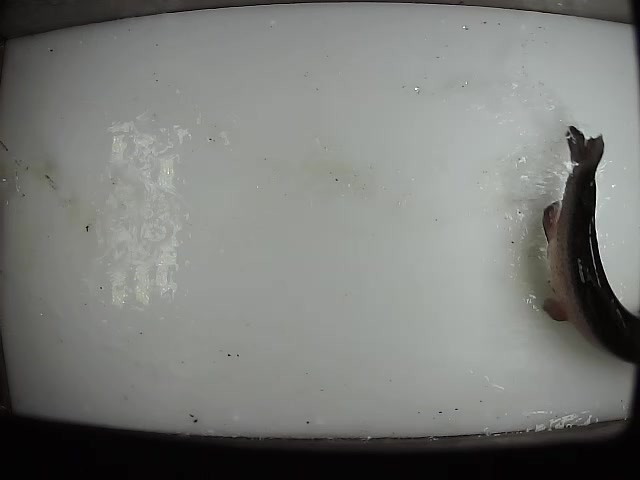fish: (543, 124, 640, 366)
